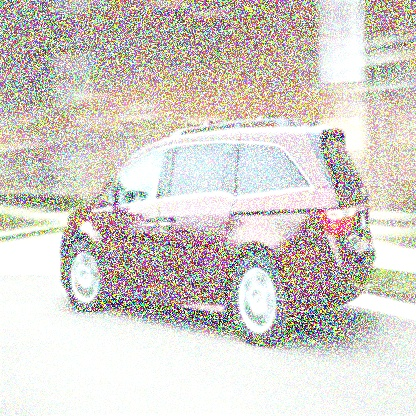Vehicle: (58, 116, 379, 348)
